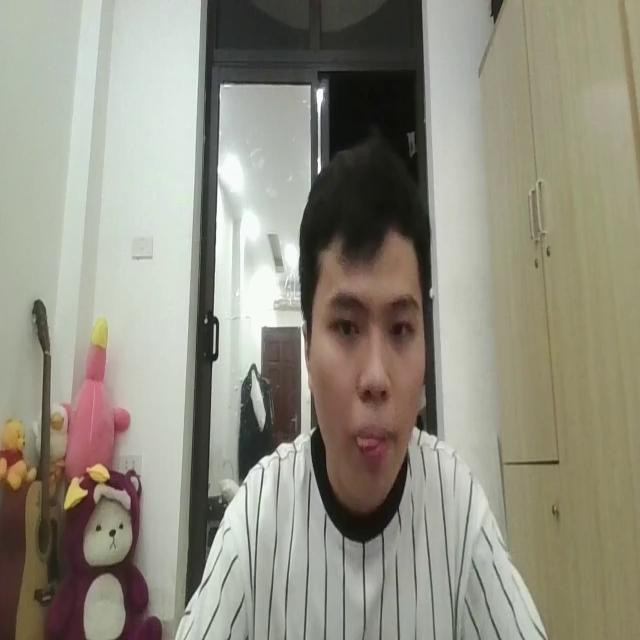student: (151, 128, 551, 640)
